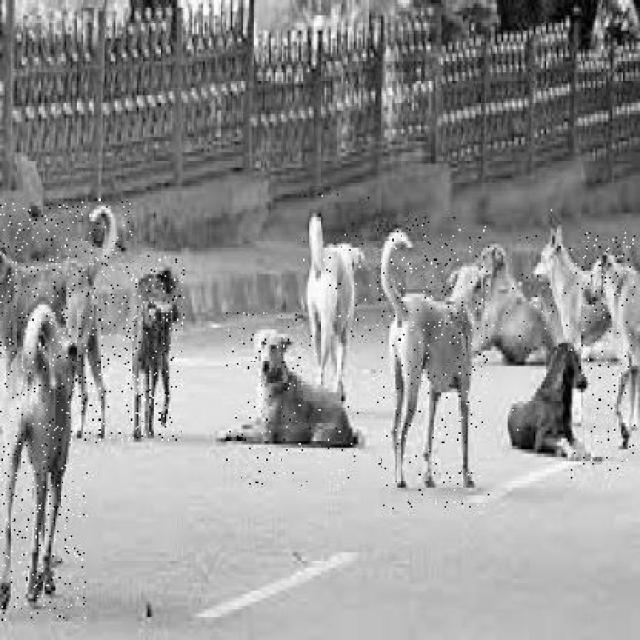Dog: (378, 217, 492, 511), (0, 198, 134, 444), (0, 300, 89, 622), (226, 313, 360, 489), (503, 322, 614, 484), (303, 191, 374, 429), (471, 226, 557, 394), (534, 199, 620, 363), (582, 230, 638, 472), (126, 256, 186, 442)
